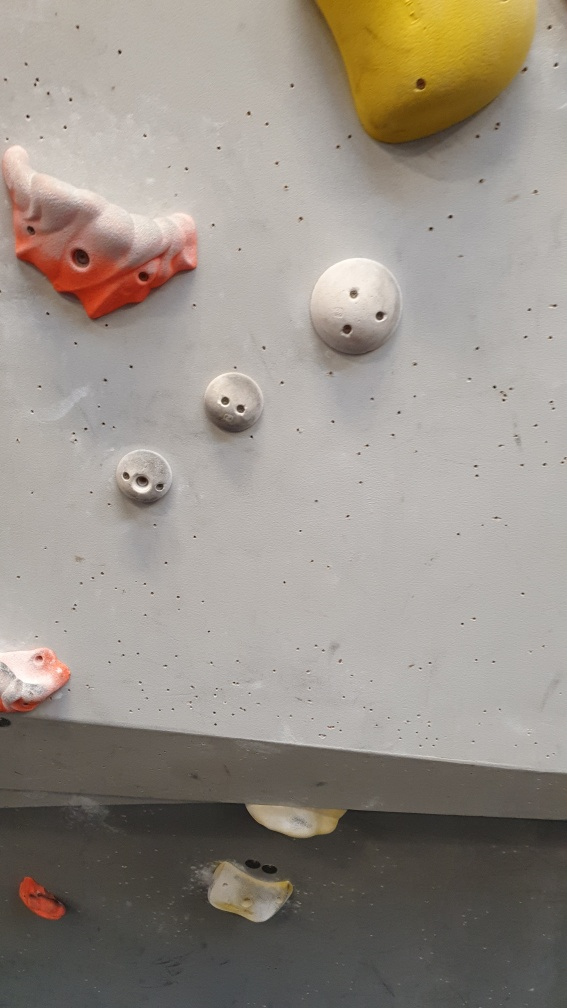Hand Start: (256, 857, 280, 880), (242, 852, 261, 874)
Jug: (1, 135, 201, 328), (18, 870, 73, 926)
Sloper: (308, 253, 406, 361), (201, 367, 270, 437), (114, 446, 174, 506)
